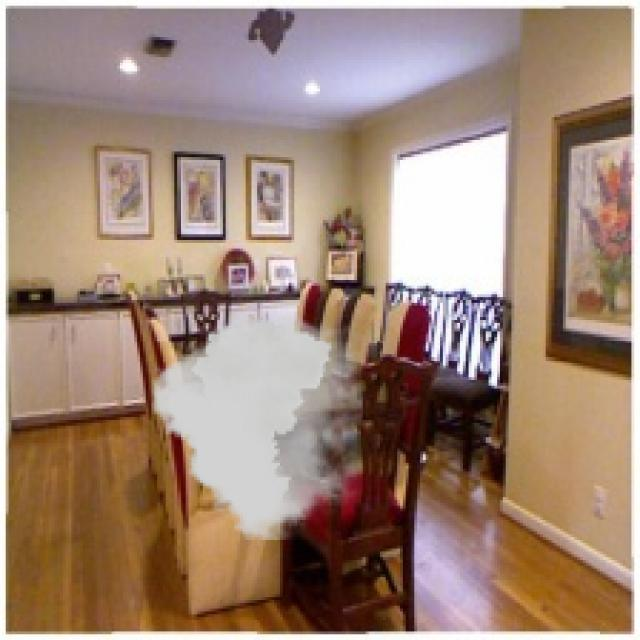smoke: (151, 311, 363, 540)
